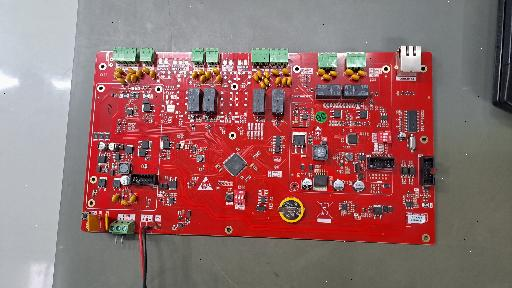var: (86, 214, 100, 232), (104, 211, 109, 231), (205, 70, 212, 81), (196, 68, 206, 75), (149, 70, 156, 79), (120, 200, 130, 206), (130, 195, 137, 203), (112, 194, 119, 202), (142, 67, 150, 74), (128, 68, 136, 75), (130, 74, 137, 82), (317, 68, 325, 75), (282, 68, 290, 75), (264, 78, 270, 87), (117, 77, 126, 83), (114, 72, 123, 78), (191, 70, 197, 79), (345, 69, 354, 75), (200, 74, 206, 83), (329, 70, 338, 76), (351, 74, 360, 80), (357, 70, 366, 76), (286, 77, 292, 86), (275, 77, 281, 86), (126, 73, 131, 83), (116, 68, 124, 74), (136, 70, 142, 78), (323, 74, 331, 80), (260, 81, 266, 89), (253, 73, 259, 81), (216, 74, 221, 83), (281, 77, 286, 86), (257, 70, 262, 79), (272, 69, 279, 75), (265, 71, 270, 79)
